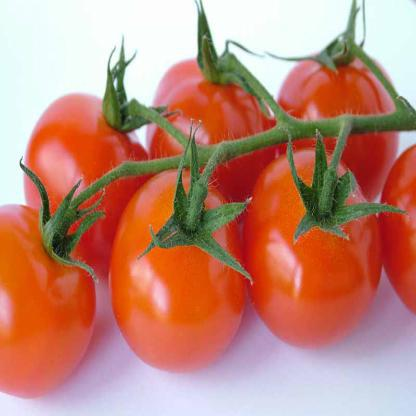tomato: (106, 160, 249, 378), (244, 144, 386, 352), (21, 84, 155, 280), (270, 41, 406, 206), (0, 198, 100, 408), (145, 54, 276, 190)
